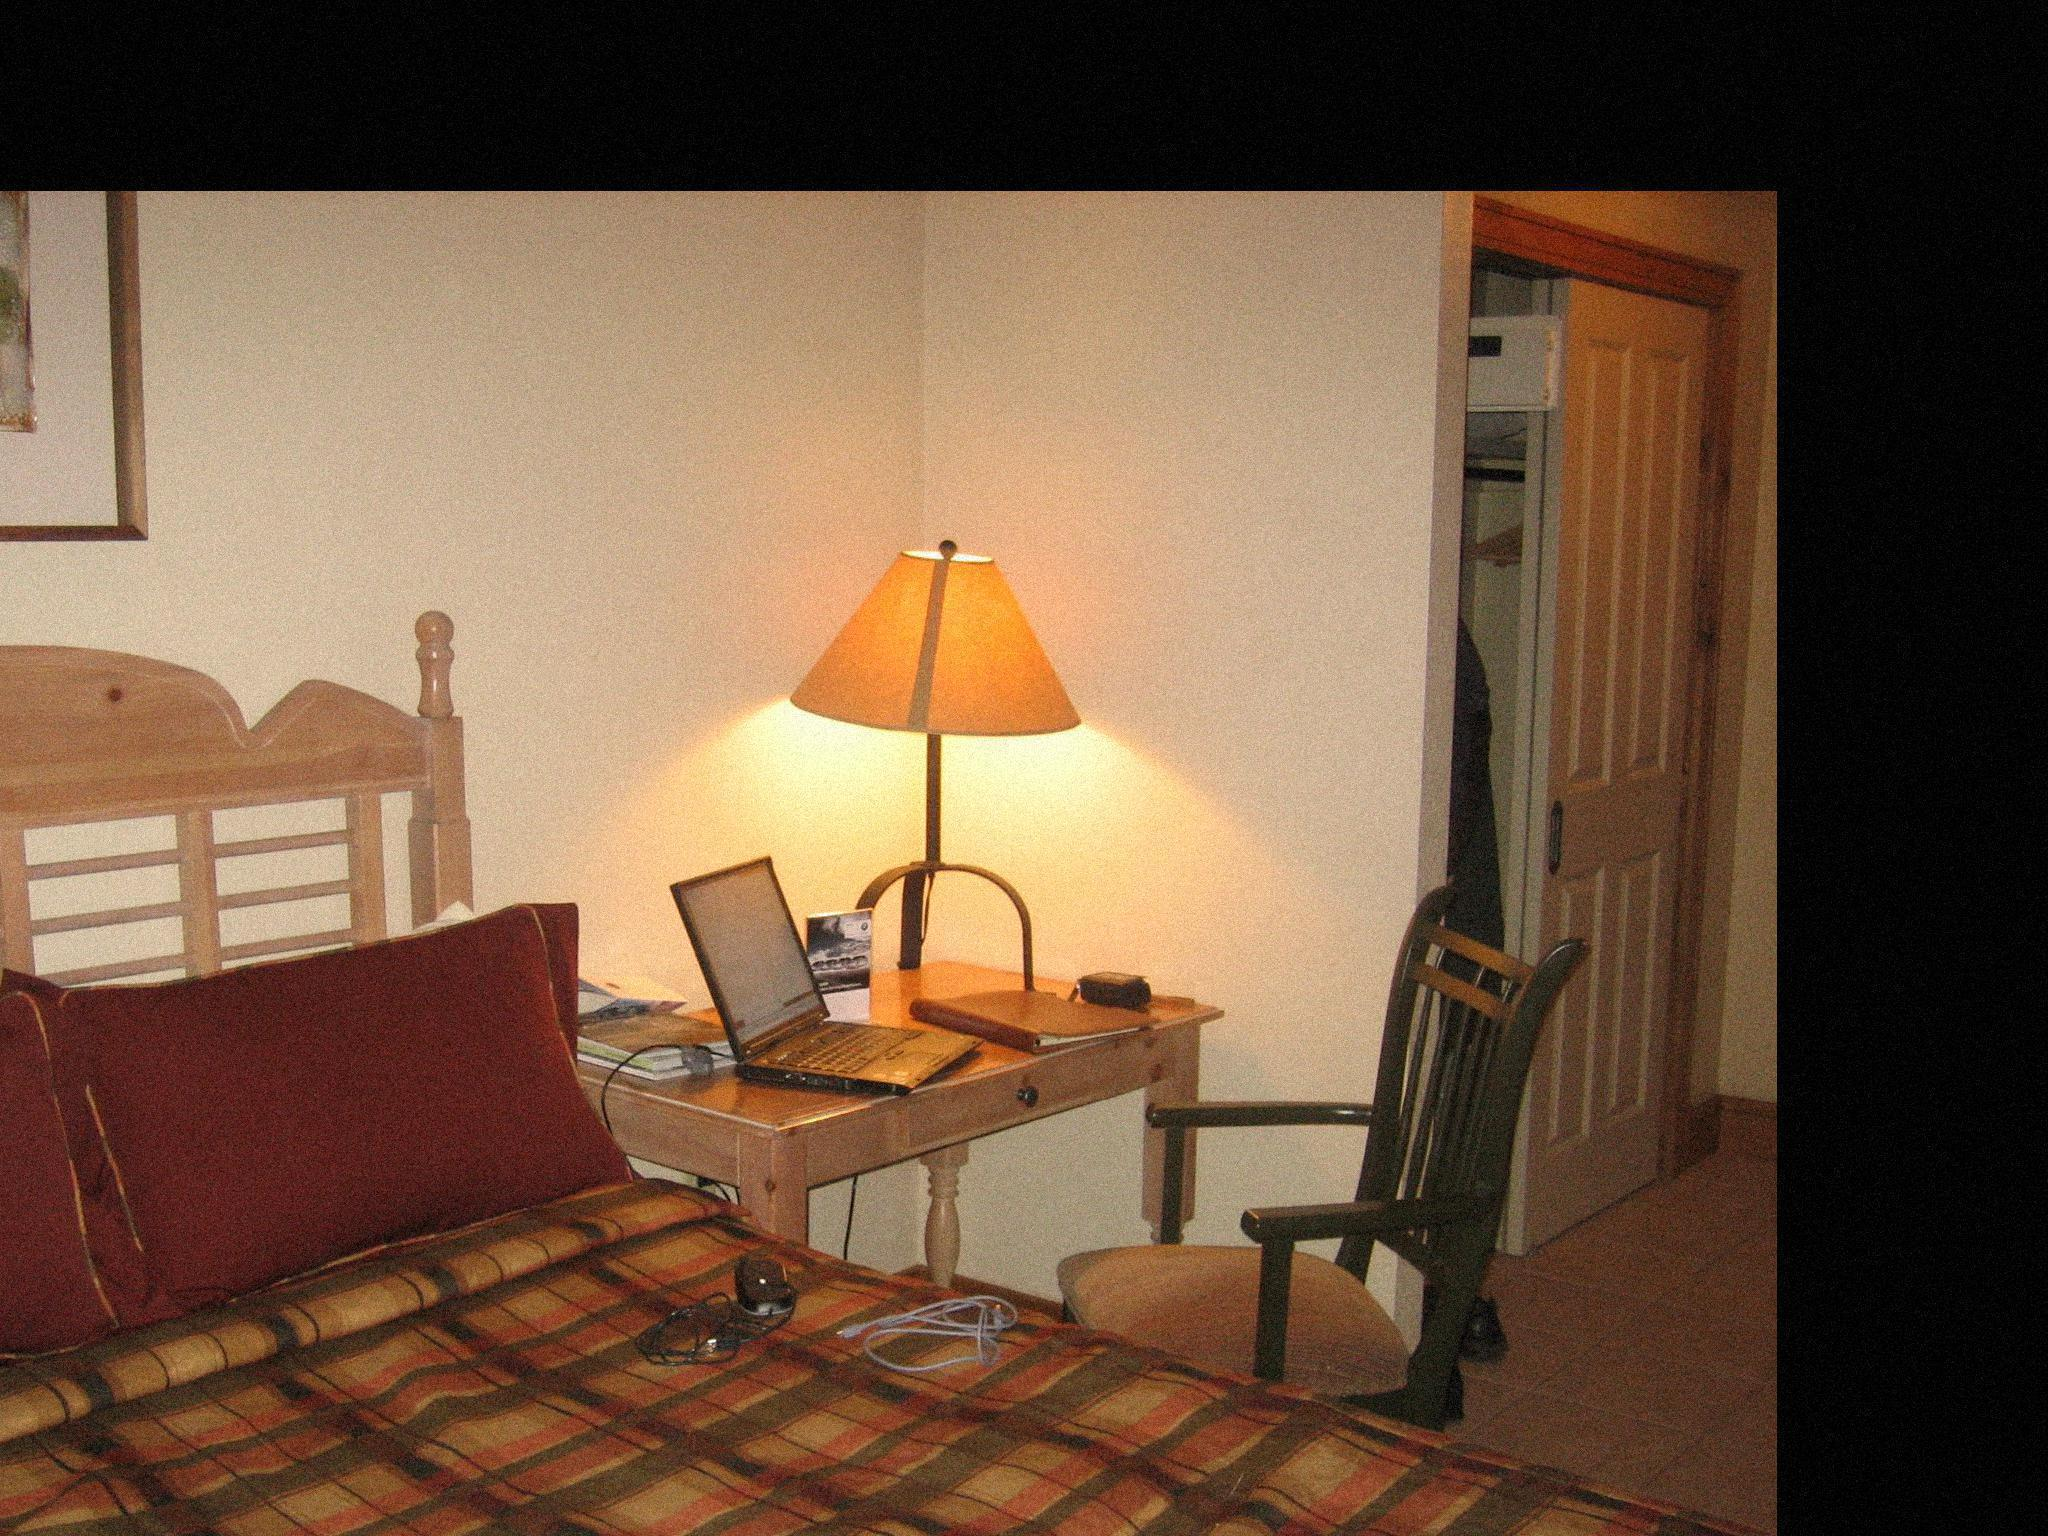Puerta: (1532, 269, 1680, 1241)
